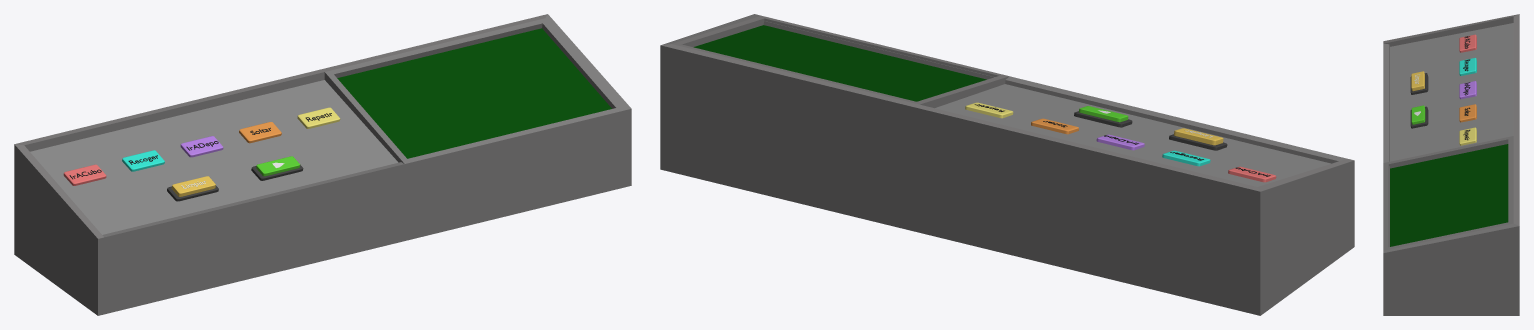
File: Sockettable.fbx
3 renders of one model, left to right at view 1: azimuth 30°, elevation 25°; view 2: azimuth 150°, elevation 25°; view 3: azimuth 270°, elevation 25°, orthographic. The views are drawn at different scales.
Visible parts, largest first — view 1: Table, IrADepo.001, Recoger.001, Repetir.001, IrAlCubo.001, Soltar.001, Limpiar.001, ButtonHolder, Ejecutar; view 2: Table, ButtonHolder, Limpiar.001; view 3: Table, ButtonHolder, IrADepo.001, Recoger.001, IrAlCubo.001, Repetir.001, Soltar.001, Ejecutar, Limpiar.001.
Part boxes in pixels (<box>): Table: <box>14,14,631,315</box>; IrADepo.001: <box>180,136,223,157</box>; Recoger.001: <box>122,150,164,171</box>; Repetir.001: <box>297,107,340,128</box>; IrAlCubo.001: <box>63,164,106,185</box>; Soltar.001: <box>239,122,281,143</box>; Limpiar.001: <box>171,176,215,196</box>; ButtonHolder: <box>167,165,303,201</box>; Ejecutar: <box>256,156,300,176</box>; Table: <box>660,14,1354,315</box>; ButtonHolder: <box>1074,111,1227,150</box>; Limpiar.001: <box>1174,128,1223,145</box>; Table: <box>1383,14,1519,315</box>; ButtonHolder: <box>1410,73,1428,128</box>; IrADepo.001: <box>1459,81,1476,99</box>; Recoger.001: <box>1459,57,1476,75</box>; IrAlCubo.001: <box>1459,34,1476,52</box>; Repetir.001: <box>1459,127,1476,145</box>; Soltar.001: <box>1459,104,1476,122</box>; Ejecutar: <box>1411,105,1425,124</box>; Limpiar.001: <box>1411,71,1424,91</box>.
Bounding box in the file's own units: 822 × 163 × 223.
